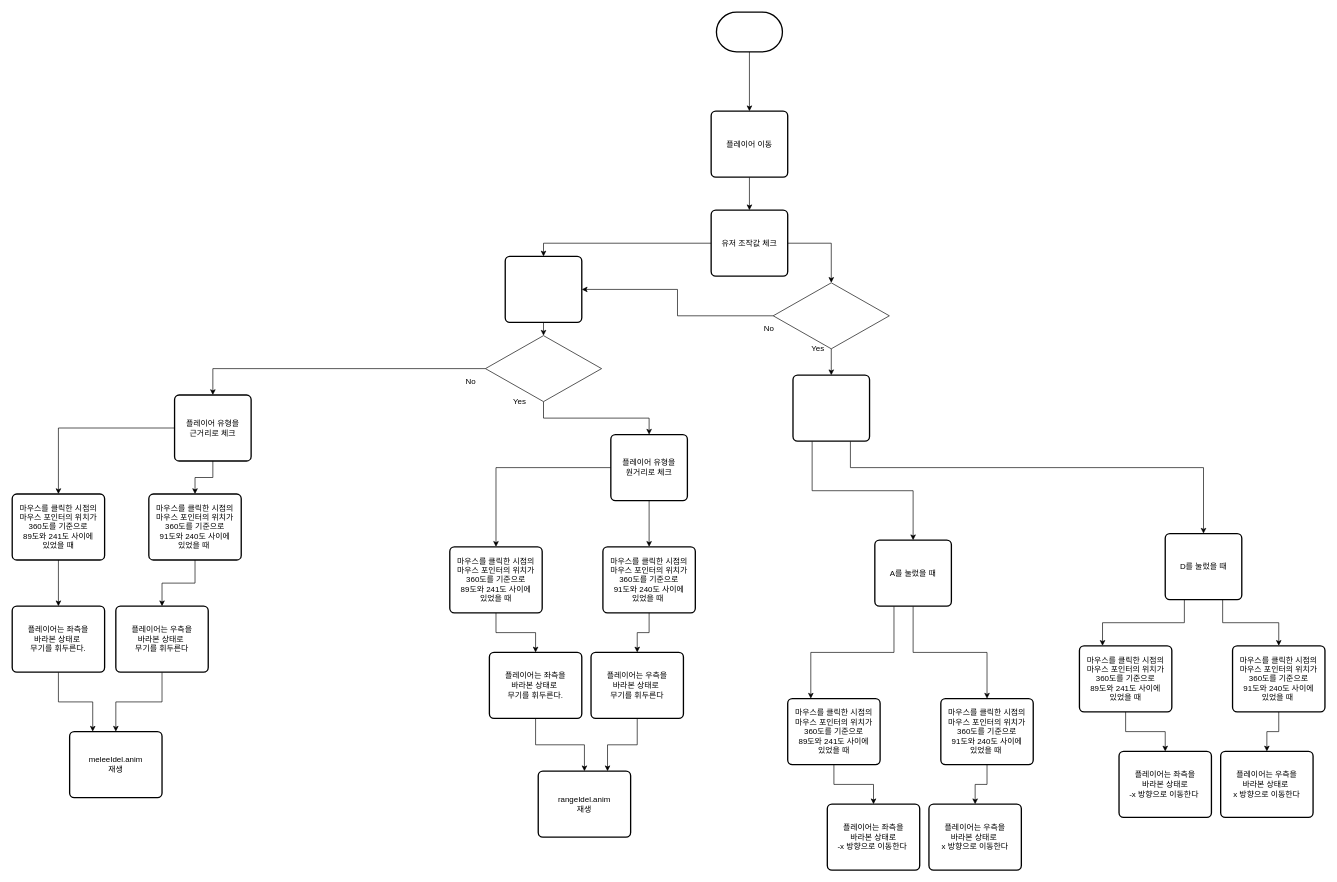
Some shapes in this 1337 by 882 pixel diagram are drawn without their labels. The shapes that lost their labels are listed below. From the top down, each one's box as (x1, y1, x2, y2) in pixels, then its label:
(715, 11, 783, 52): 인게임 진입
(504, 255, 582, 323): 유저가 마우스를 클릭 하였을 때
(773, 282, 889, 349): 유저가 키보드를 조작하였는가
(485, 335, 602, 402): 플레이어의 공격 유형이 원거리인가?
(792, 374, 870, 442): 유저가 키보드에서 A or D를 누른다면 이동 애니메이션을 재생합니다.
